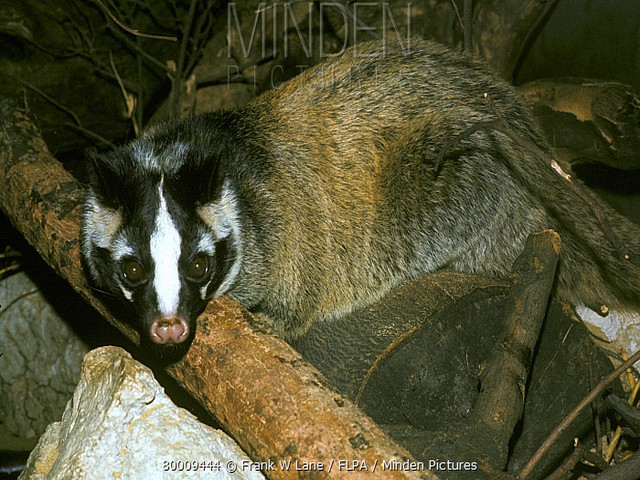civet: (72, 37, 632, 356)
